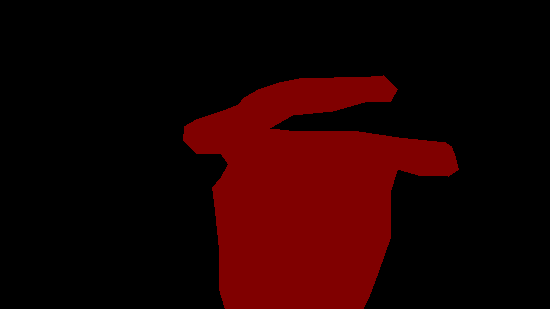fire: (183, 75, 458, 309)
